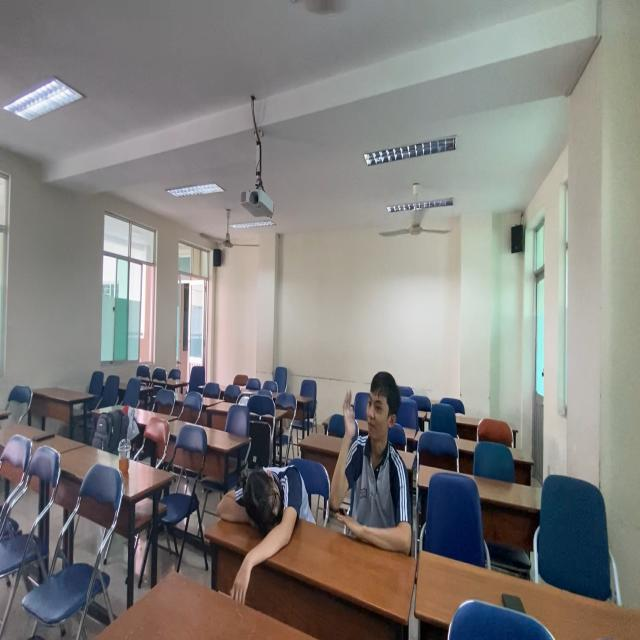sleep: (215, 453, 315, 564)
